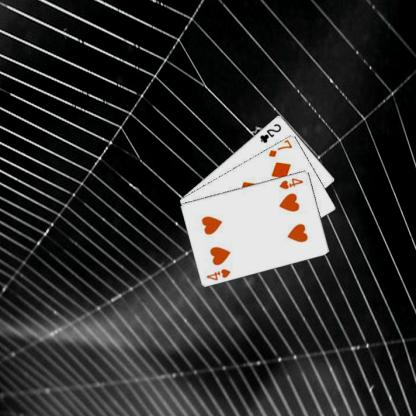2C: (257, 121, 282, 144)
4H: (204, 266, 232, 281), (277, 175, 304, 190)
7D: (266, 138, 293, 158)
